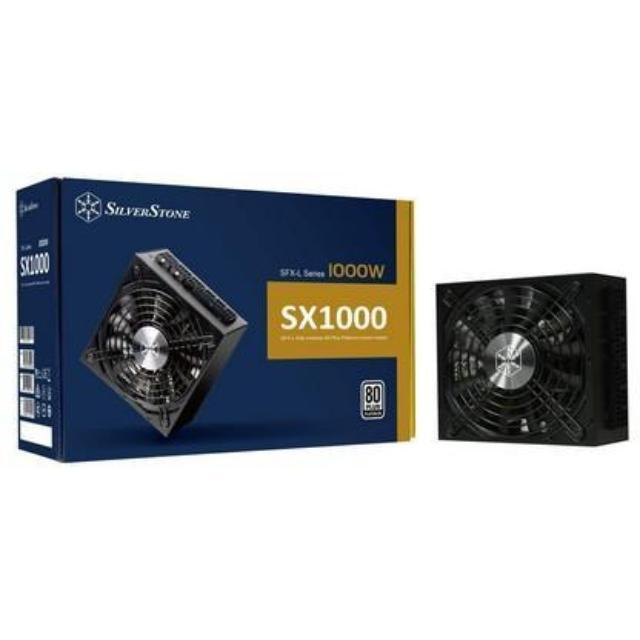PSU: (429, 266, 640, 448), (85, 235, 240, 450)
